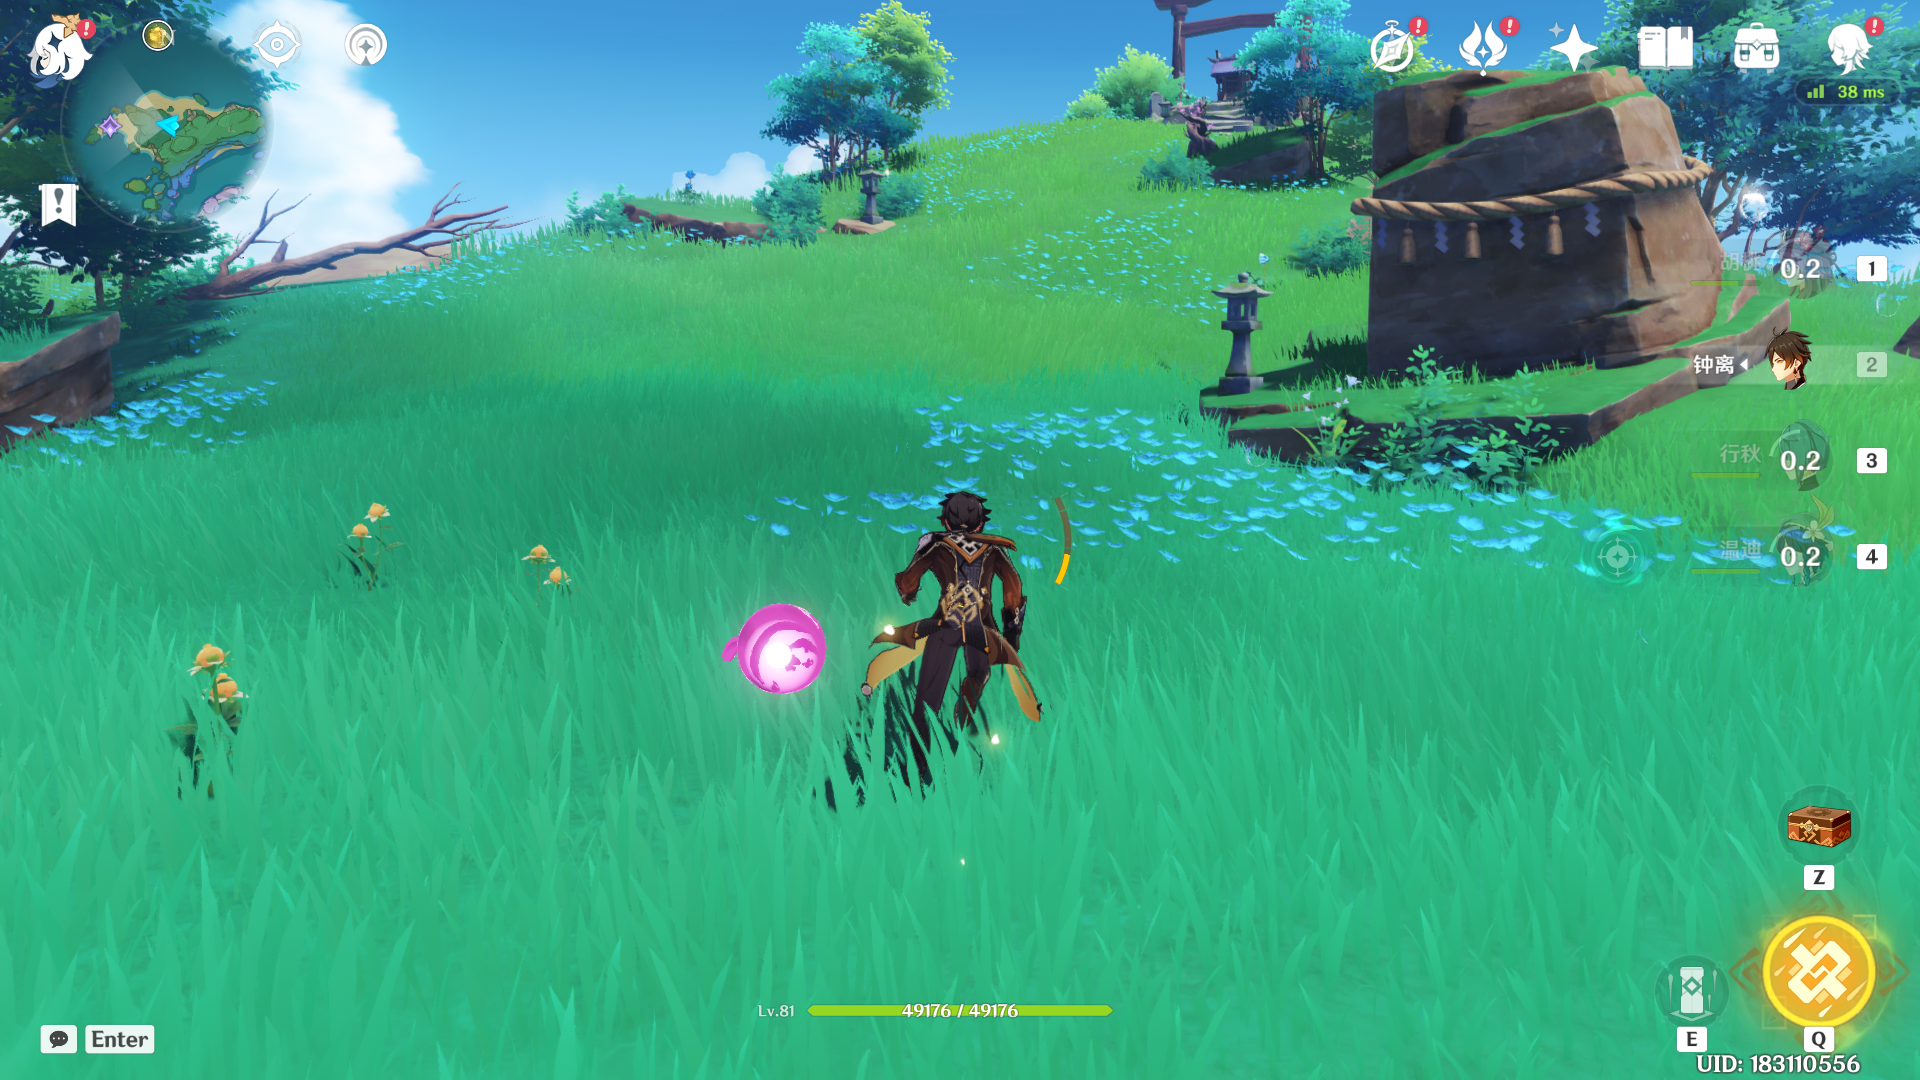character: (858, 459, 1084, 766)
